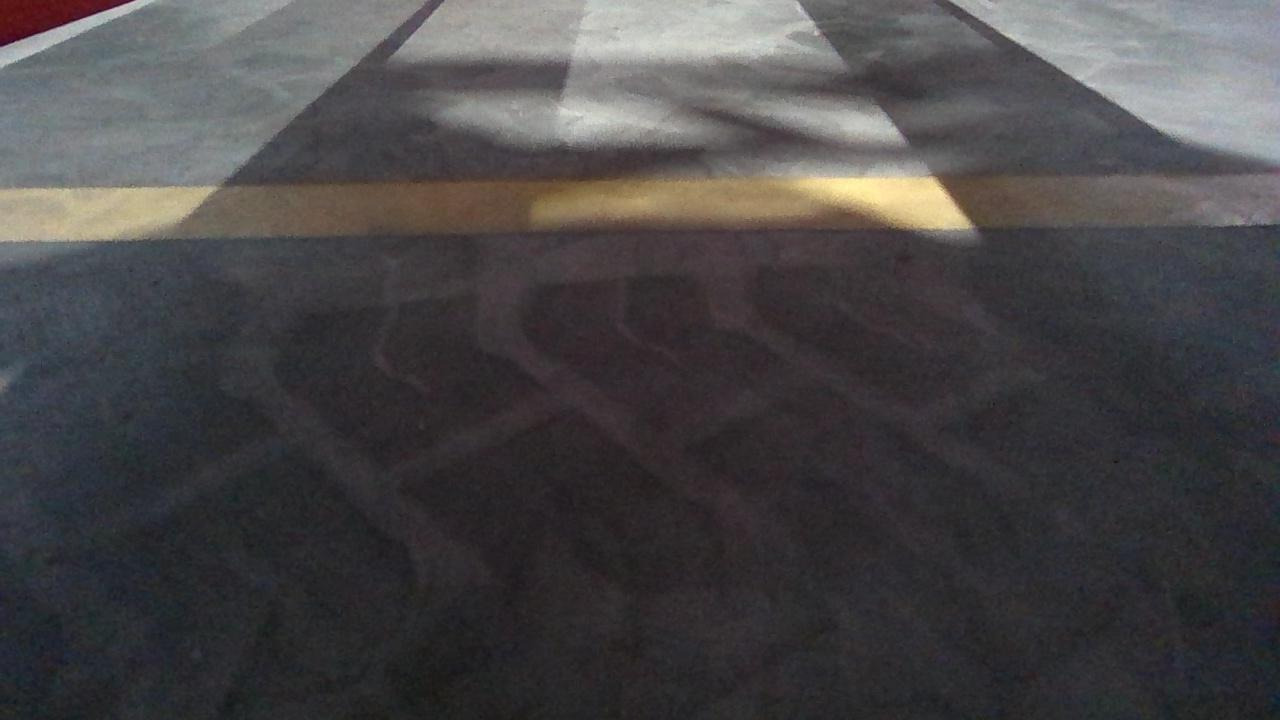yellow_line: (4, 175, 1280, 236)
